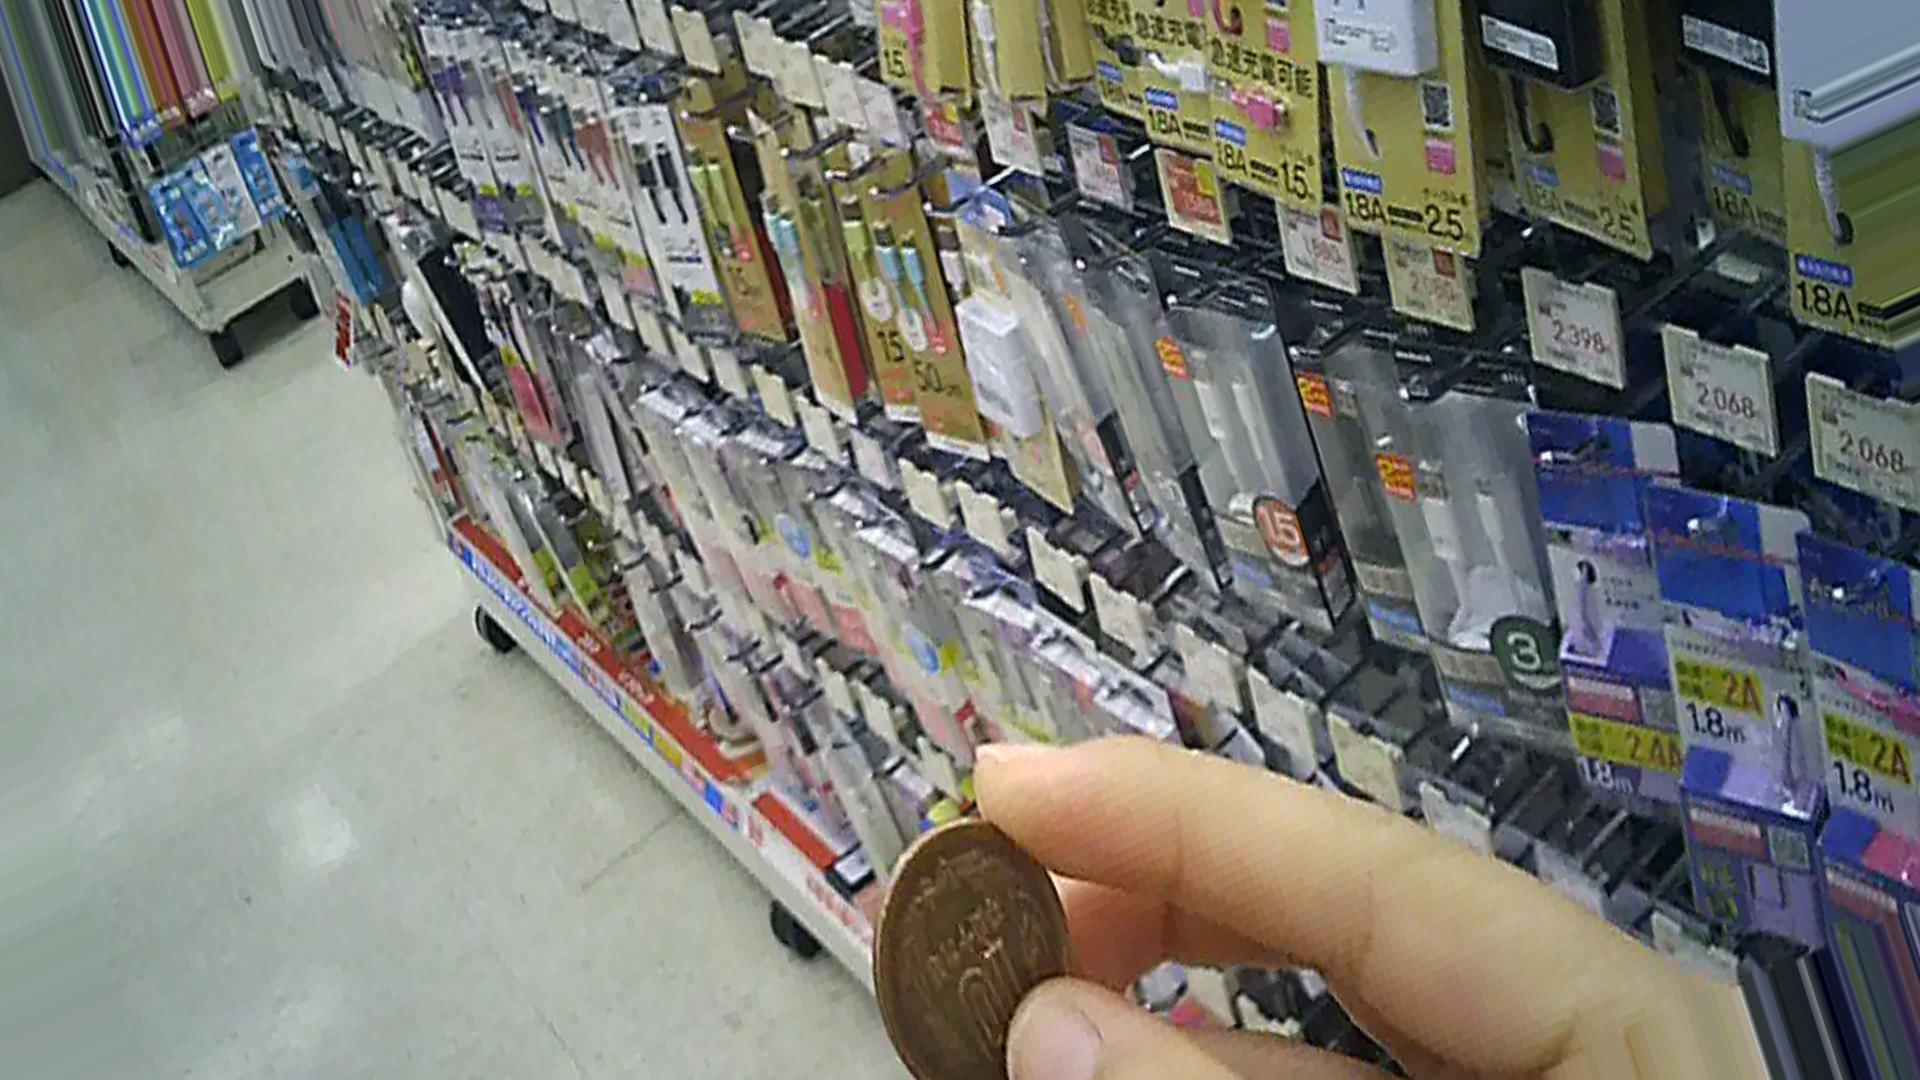10 Yen: (860, 815, 1102, 1076)
